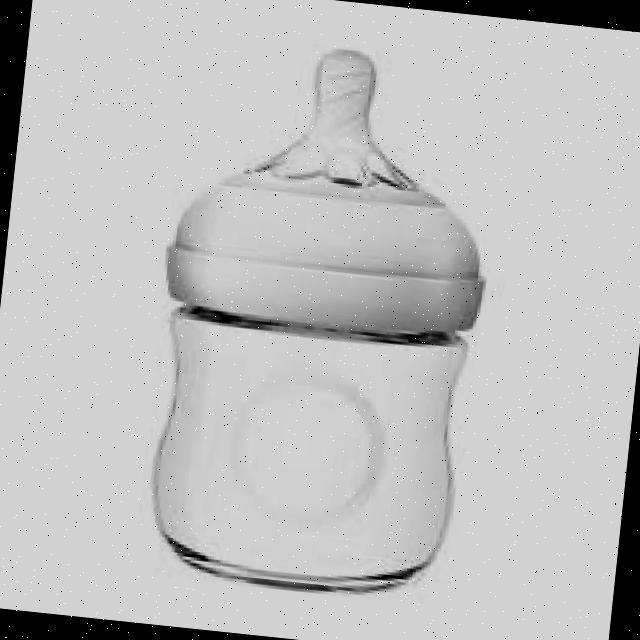bottle: (51, 46, 554, 619)
